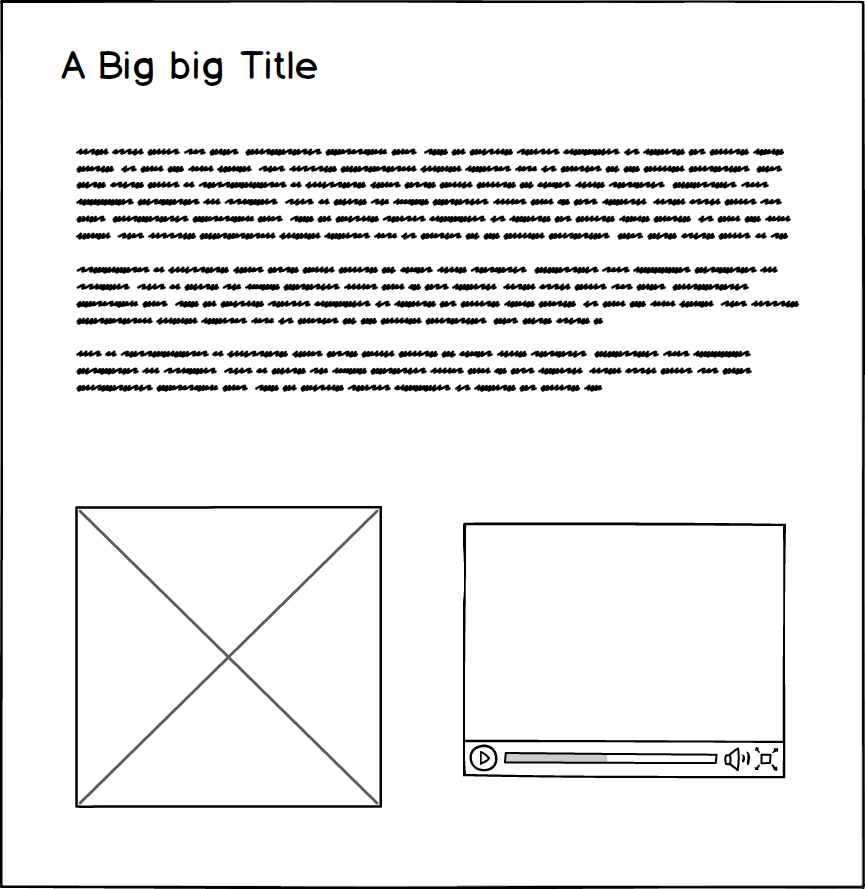h1: (52, 43, 324, 92)
image: (68, 501, 388, 815)
p: (67, 142, 809, 401)
video: (453, 515, 795, 783)
